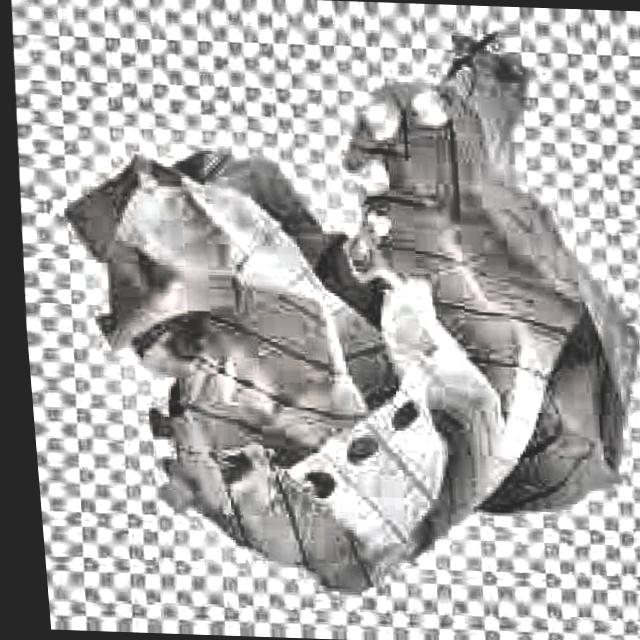Paper: (35, 14, 640, 599)
